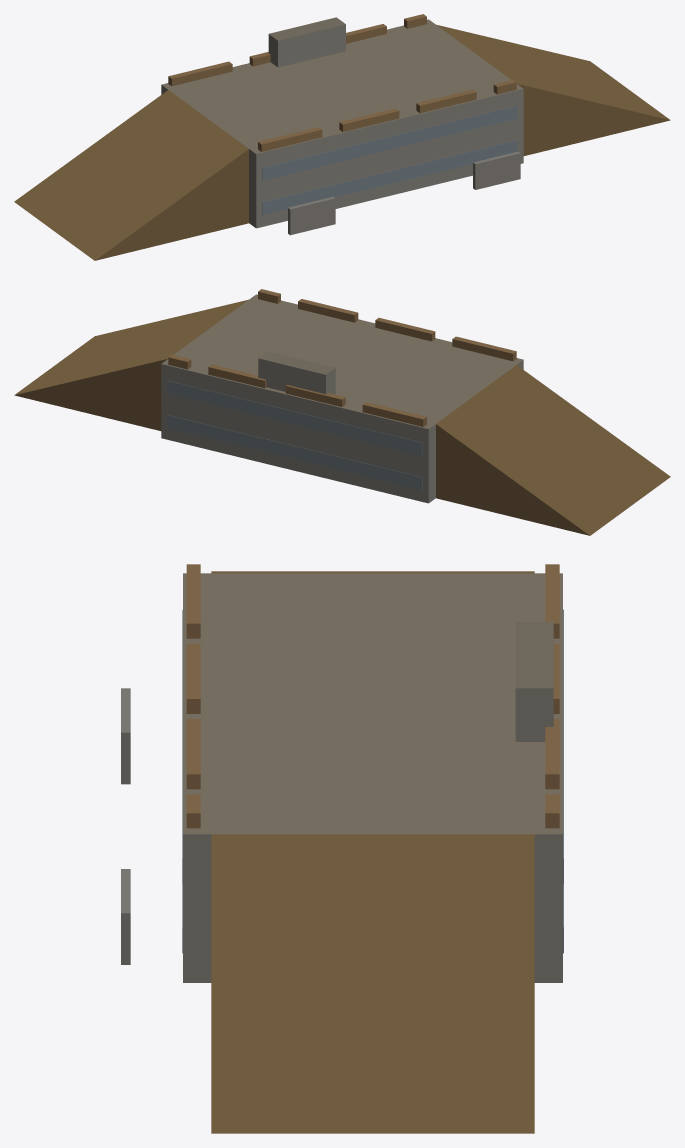
The model's file is mb-command-bunker.garrison-v1.lod2.glb.
The picture shows the model from 3 angles, top to bottom: view 1: azimuth 30°, elevation 25°; view 2: azimuth 150°, elevation 25°; view 3: azimuth 270°, elevation 25°; orthographic projection. The views are drawn at different scales.
Parts seen in each view (by area): view 1: mb-command-bunker; view 2: mb-command-bunker; view 3: mb-command-bunker.
Boxes of the visible parts, x1,y1,x2,y2 form: mb-command-bunker: [14, 14, 670, 260]; mb-command-bunker: [14, 289, 670, 535]; mb-command-bunker: [121, 564, 563, 1133].
Bounding box in the file's own units: 56 × 9.4 × 18.63.
